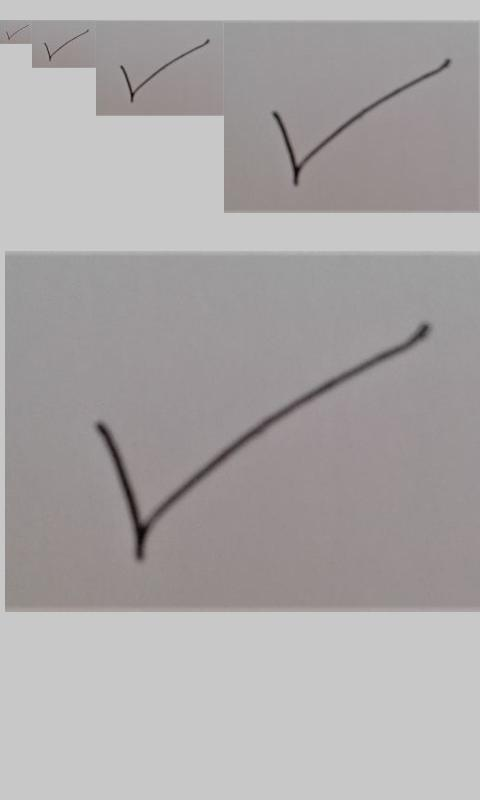check_box: (97, 325, 430, 555), (273, 60, 450, 179), (121, 40, 209, 99), (43, 29, 89, 60), (5, 25, 29, 40)
